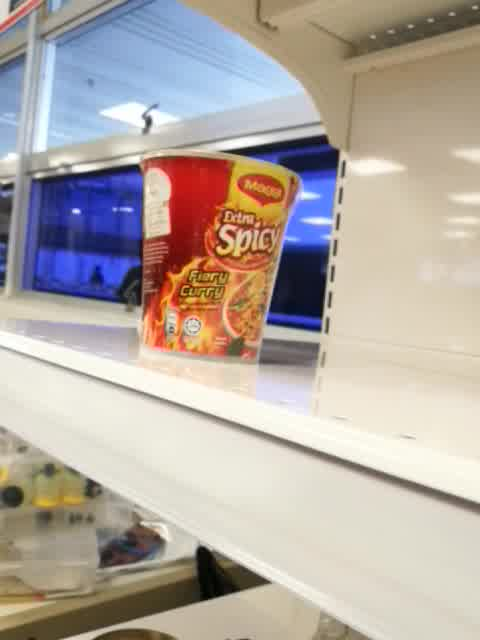maggi: (138, 149, 301, 371)
